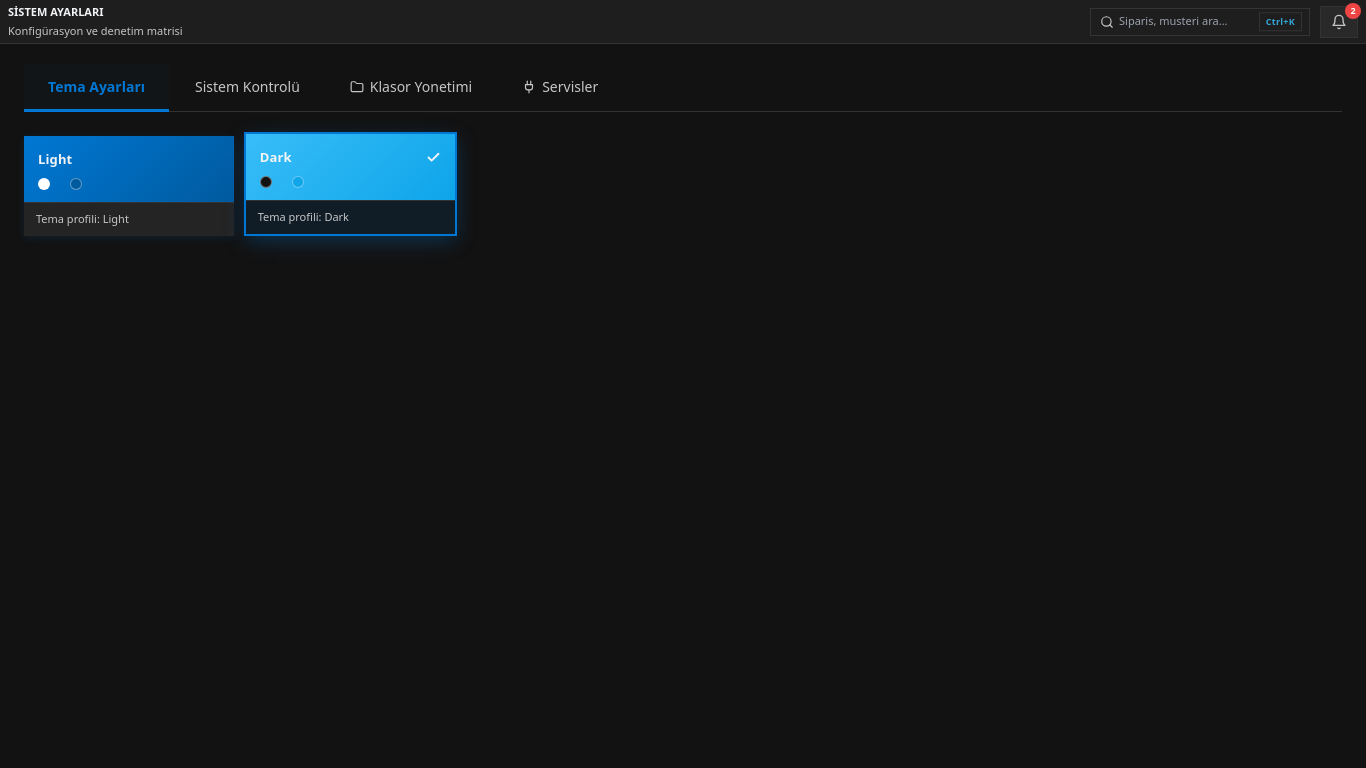
Test: ConfigPage › servis toggle aksiyonu update çağrısı yapar ve durumu günceller
Step 1. Click the button "Servisler" → (560,88), box [498, 64, 622, 112]
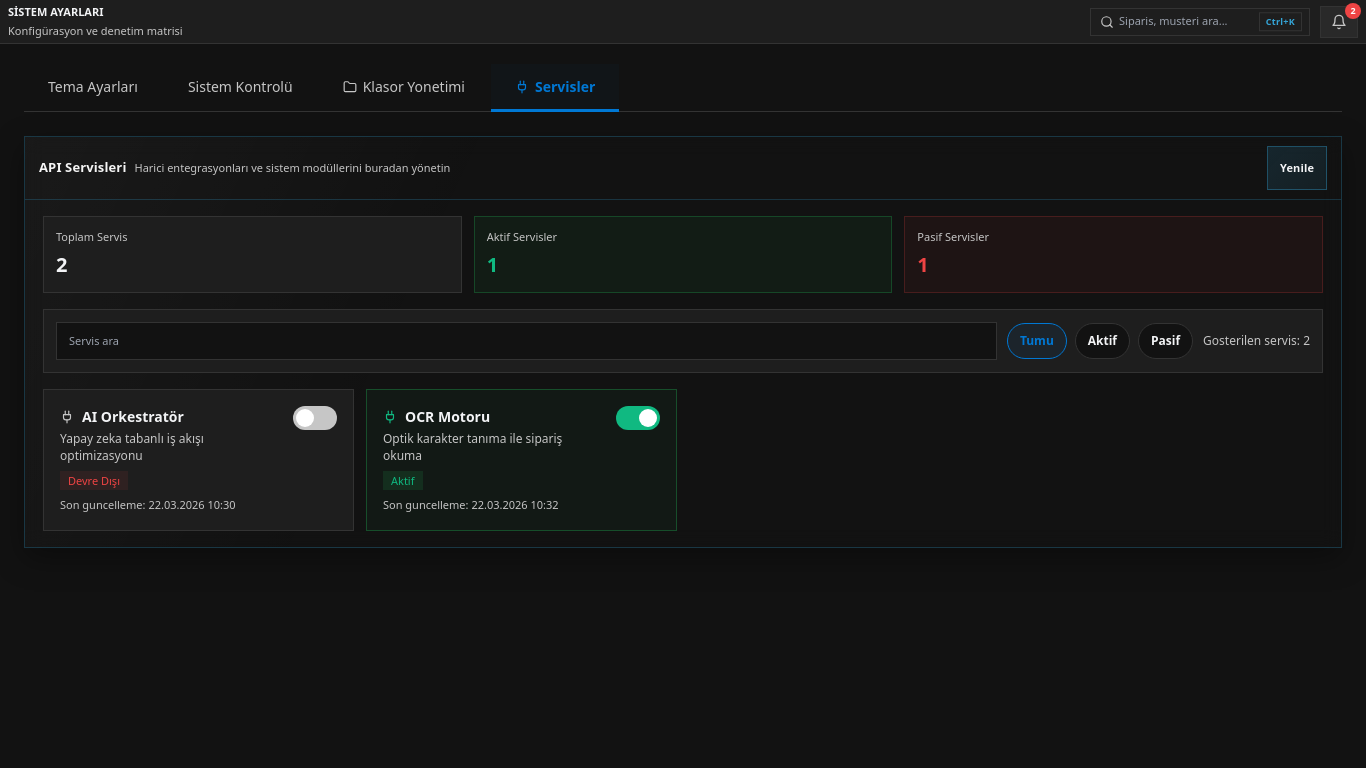
Step 2. Click the button named "AI Orkestratör etkinleştir" → (315,418), box [293, 406, 337, 430]
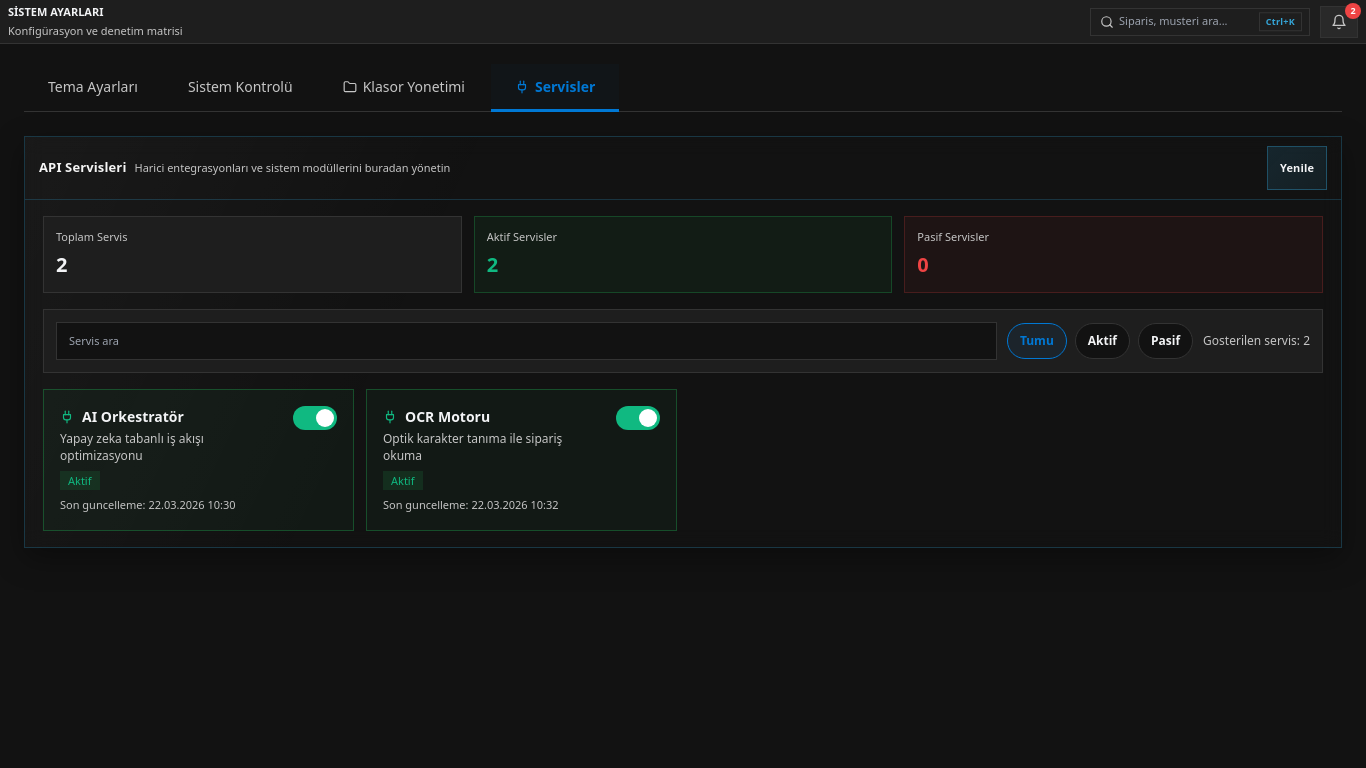
Now the button named "AI Orkestratör devre dışı bırak" is shown, box [293, 406, 337, 430]
